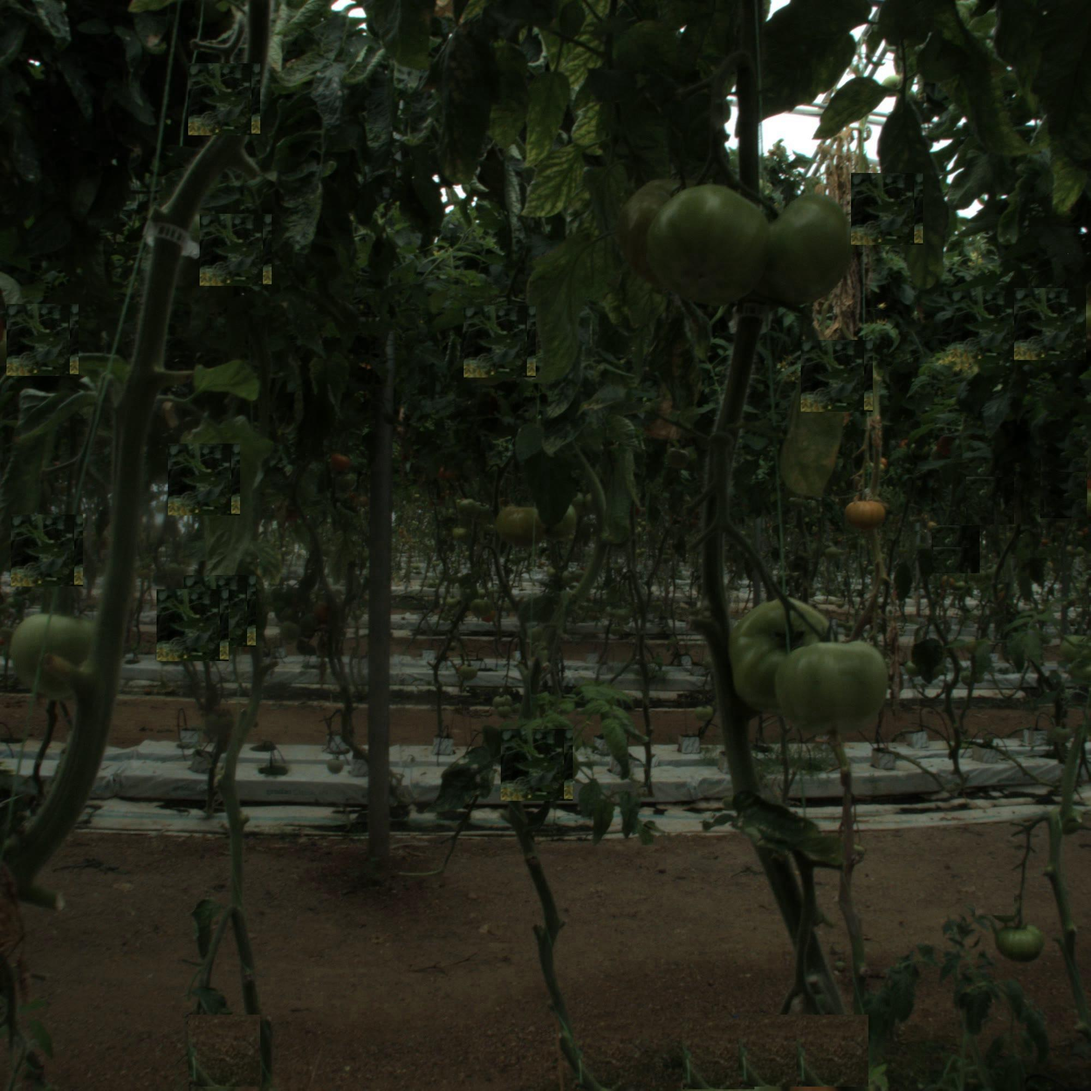semi-ripe: (846, 493, 888, 534)
unripe: (646, 189, 778, 321), (731, 602, 834, 705), (746, 192, 848, 295), (784, 630, 887, 732), (13, 610, 106, 703), (497, 505, 542, 550), (1000, 921, 1040, 960)
